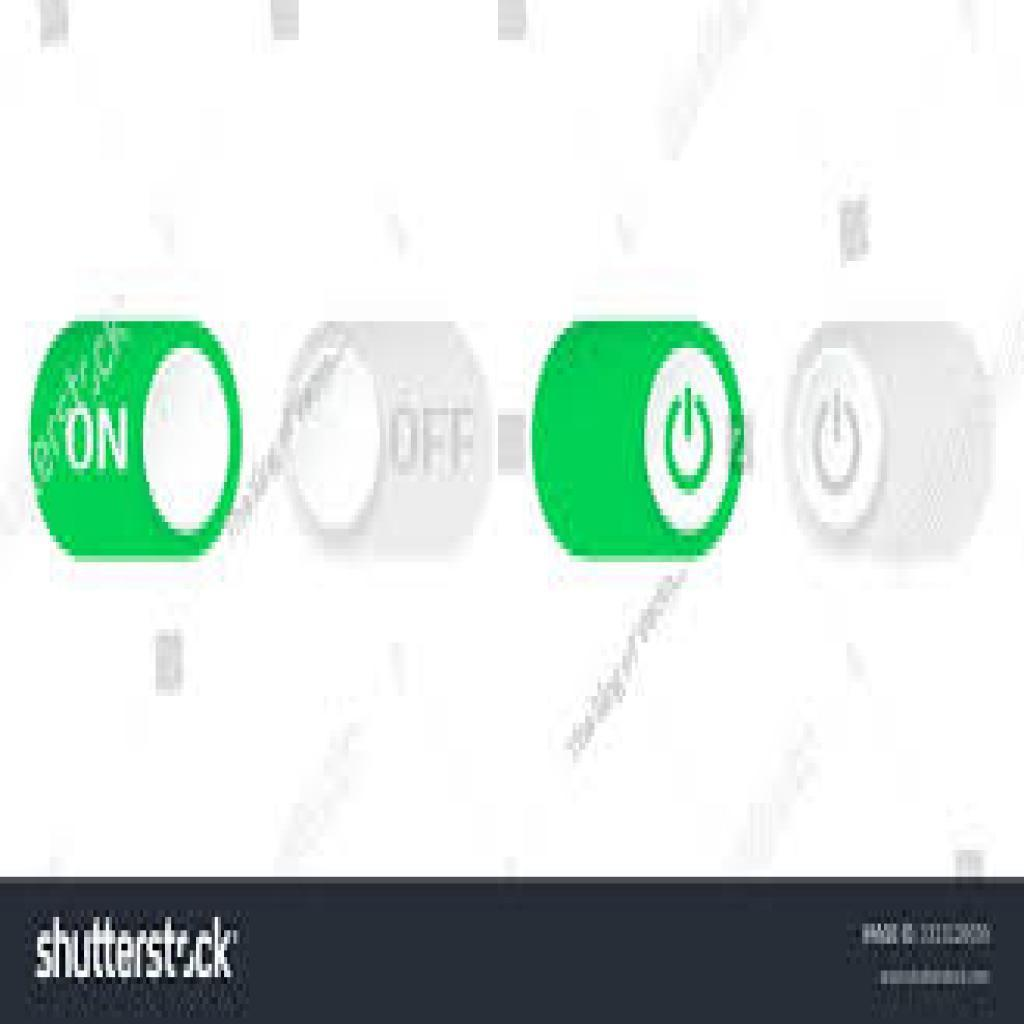switch: (27, 311, 250, 569), (529, 314, 747, 573), (280, 319, 498, 571), (784, 318, 997, 575)
